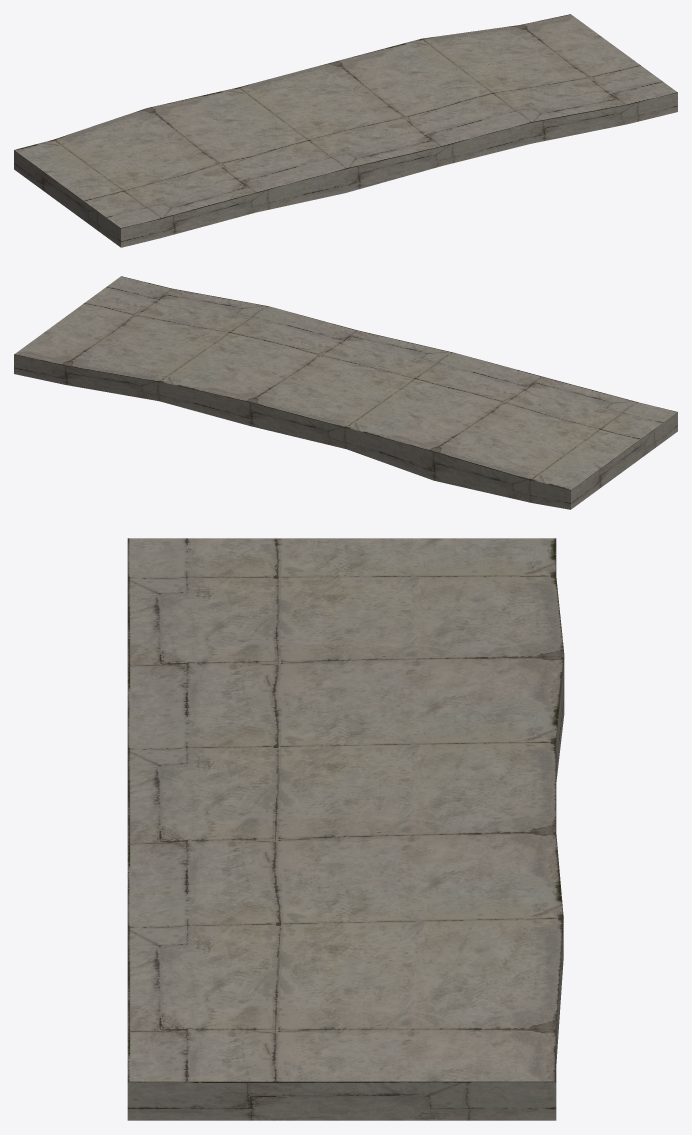
File: Floor_Plate_Woble_B_6x2.FBX
The picture shows the model from 3 angles, top to bottom: view 1: azimuth 30°, elevation 25°; view 2: azimuth 150°, elevation 25°; view 3: azimuth 270°, elevation 25°; orthographic projection. The views are drawn at different scales.
Parts seen in each view (by area): view 1: Floor_Plate_Woble_B_6x2; view 2: Floor_Plate_Woble_B_6x2; view 3: Floor_Plate_Woble_B_6x2.
Part boxes in pixels (x1=…): Floor_Plate_Woble_B_6x2: x1=14, y1=14, x2=677, y2=247; Floor_Plate_Woble_B_6x2: x1=14, y1=276, x2=677, y2=509; Floor_Plate_Woble_B_6x2: x1=127, y1=538, x2=564, y2=1120.
Size of the model in its own units: 600 by 33.13 by 204.
